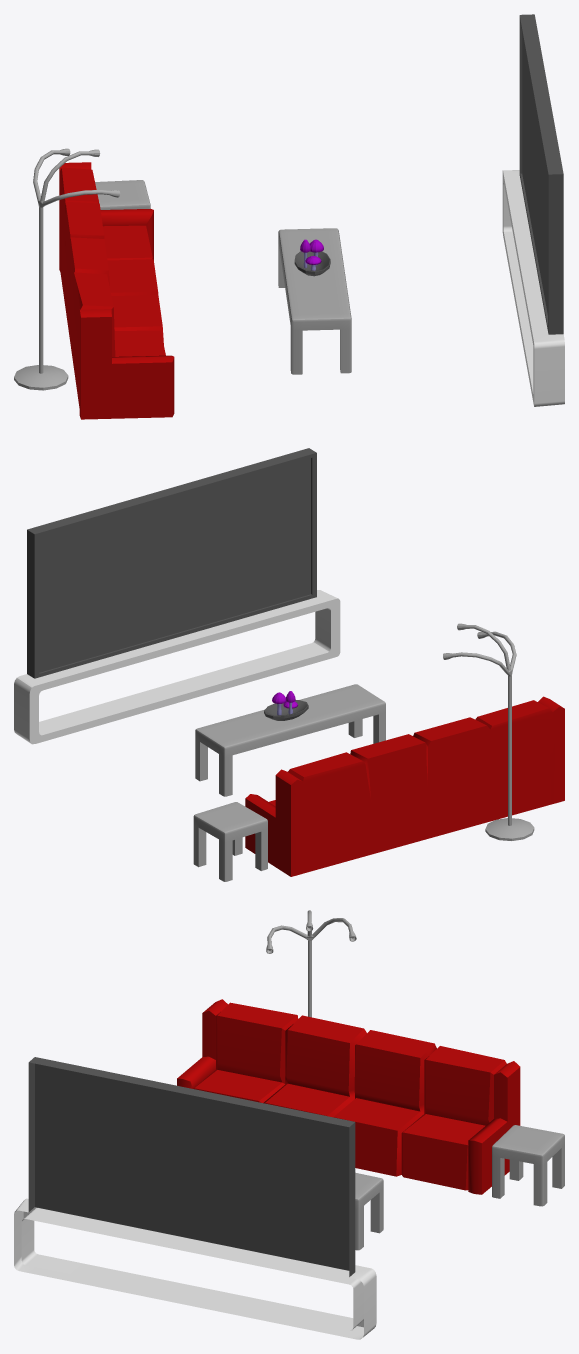
The model's file is LivingRoom_Colored.fbx.
The picture shows the model from 3 angles, top to bottom: view 1: azimuth 30°, elevation 25°; view 2: azimuth 150°, elevation 25°; view 3: azimuth 270°, elevation 25°; orthographic projection. The views are drawn at different scales.
Visible parts, largest first — view 1: Sofa, TV, SideTable1, Lamp1, SideTable, FruitBowl; view 2: TV, Sofa, SideTable1, SideTable, Lamp1, FruitBowl; view 3: TV, Sofa, SideTable, SideTable1, Lamp1.
Part boxes in pixels (x1,y1,x2,y2): Sofa: (59, 162, 174, 419); TV: (502, 14, 564, 406); SideTable1: (278, 228, 351, 374); Lamp1: (14, 148, 120, 390); SideTable: (95, 180, 150, 209); FruitBowl: (294, 251, 330, 276); TV: (14, 448, 340, 744); Sofa: (245, 696, 564, 876); SideTable1: (195, 684, 385, 796); SideTable: (193, 802, 267, 881); Lamp1: (443, 623, 534, 840); FruitBowl: (264, 700, 308, 720); TV: (14, 1057, 376, 1339); Sofa: (177, 999, 520, 1194); SideTable: (492, 1125, 564, 1206); SideTable1: (355, 1172, 383, 1250); Lamp1: (266, 910, 356, 1017).
Size of the model in its own units: 207 by 81.82 by 194.
